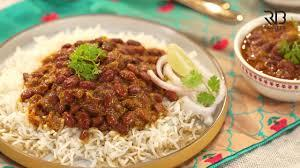rajma: (48, 39, 160, 127), (241, 20, 300, 84)
rice: (14, 118, 197, 168)
